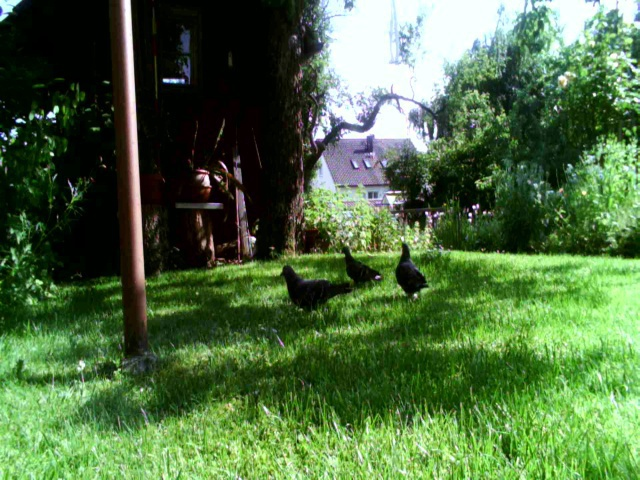Pigeon: (275, 263, 354, 320), (389, 241, 430, 300), (335, 244, 385, 288)
